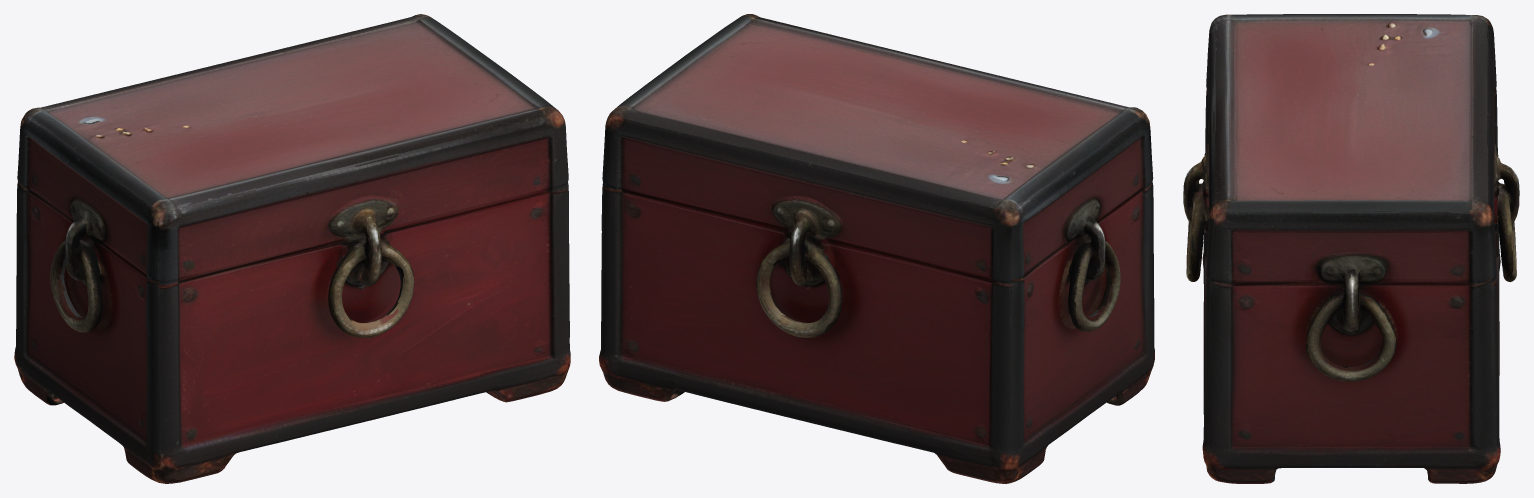
Rendered from traveler_env_coast_ojatara_costume_trunk_00001_.glb.
3 renders of one model, left to right at view 1: azimuth 30°, elevation 25°; view 2: azimuth 150°, elevation 25°; view 3: azimuth 270°, elevation 25°, orthographic.
Parts seen in each view (by area): view 1: temp_mesh.ply; view 2: temp_mesh.ply; view 3: temp_mesh.ply.
Part boxes in pixels (<box>): temp_mesh.ply: <box>14,14,570,483</box>; temp_mesh.ply: <box>599,14,1154,483</box>; temp_mesh.ply: <box>1183,14,1519,483</box>.
Size of the model in its own units: 1.56 by 0.9226 by 1.01.
1 material, 1 textured.
